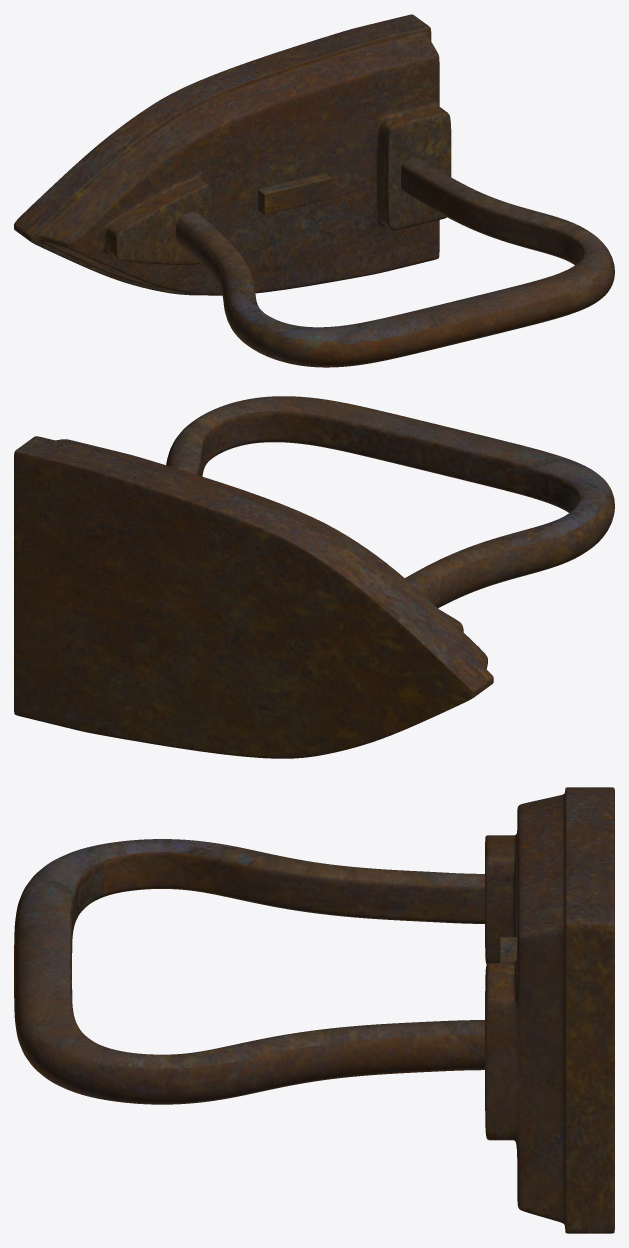
File: 20905_Old_Clothes_Iron_small_v1_NEW.obj
3 views of the same model, one above another, from view 1: azimuth 30°, elevation 25°; view 2: azimuth 150°, elevation 25°; view 3: azimuth 270°, elevation 25° (orthographic). The views are drawn at different scales.
Visible parts, largest first — view 1: 20905_Old_Clothes_Iron_small_v1; view 2: 20905_Old_Clothes_Iron_small_v1; view 3: 20905_Old_Clothes_Iron_small_v1.
Boxes of the visible parts, left/top/right/bottom form: 20905_Old_Clothes_Iron_small_v1: left=14, top=14, right=614, bottom=367; 20905_Old_Clothes_Iron_small_v1: left=14, top=396, right=614, bottom=758; 20905_Old_Clothes_Iron_small_v1: left=14, top=787, right=614, bottom=1233.
Bounding box in the file's own units: 9.4 × 4.97 × 8.7.
1 material, 1 textured.
